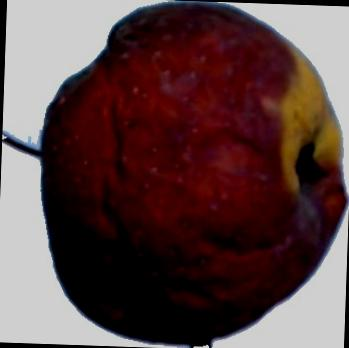Apple Overripe: (0, 0, 349, 318)
